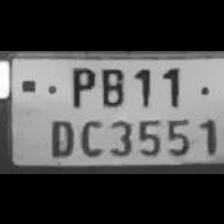1: (155, 62, 187, 106), (128, 62, 156, 108), (194, 113, 220, 155)
3: (104, 113, 132, 157)
5: (162, 113, 192, 155), (133, 114, 163, 155)
B: (96, 62, 128, 106)
C: (78, 113, 106, 155)
D: (44, 114, 76, 156)
P: (62, 62, 98, 108)
